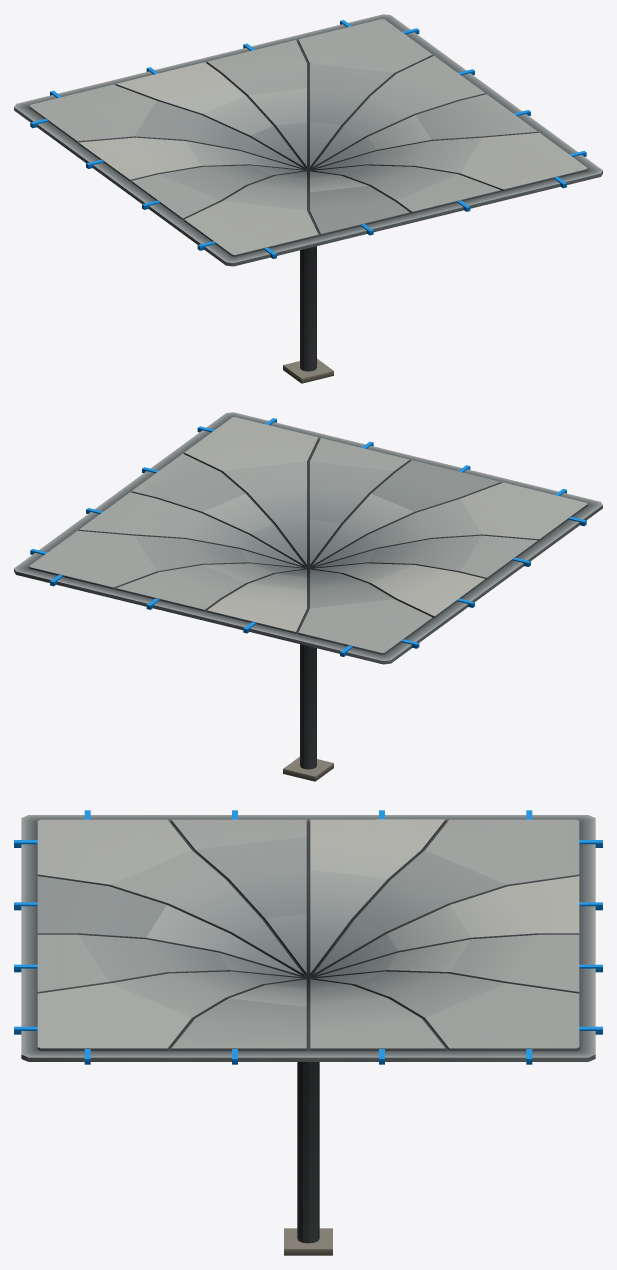
Rendered from Modular_Structure_1A.fbx.
3 renders of one model, top to bottom at view 1: azimuth 30°, elevation 25°; view 2: azimuth 150°, elevation 25°; view 3: azimuth 270°, elevation 25°, orthographic. The views are drawn at different scales.
Visible parts, largest first — view 1: Modular_Structure_1A; view 2: Modular_Structure_1A; view 3: Modular_Structure_1A.
Part boxes in pixels (bbox=[...]): Modular_Structure_1A: bbox=[14, 14, 602, 383]; Modular_Structure_1A: bbox=[14, 412, 602, 781]; Modular_Structure_1A: bbox=[14, 810, 602, 1255].
Size of the model in its own units: 2400 by 1400 by 2400.
